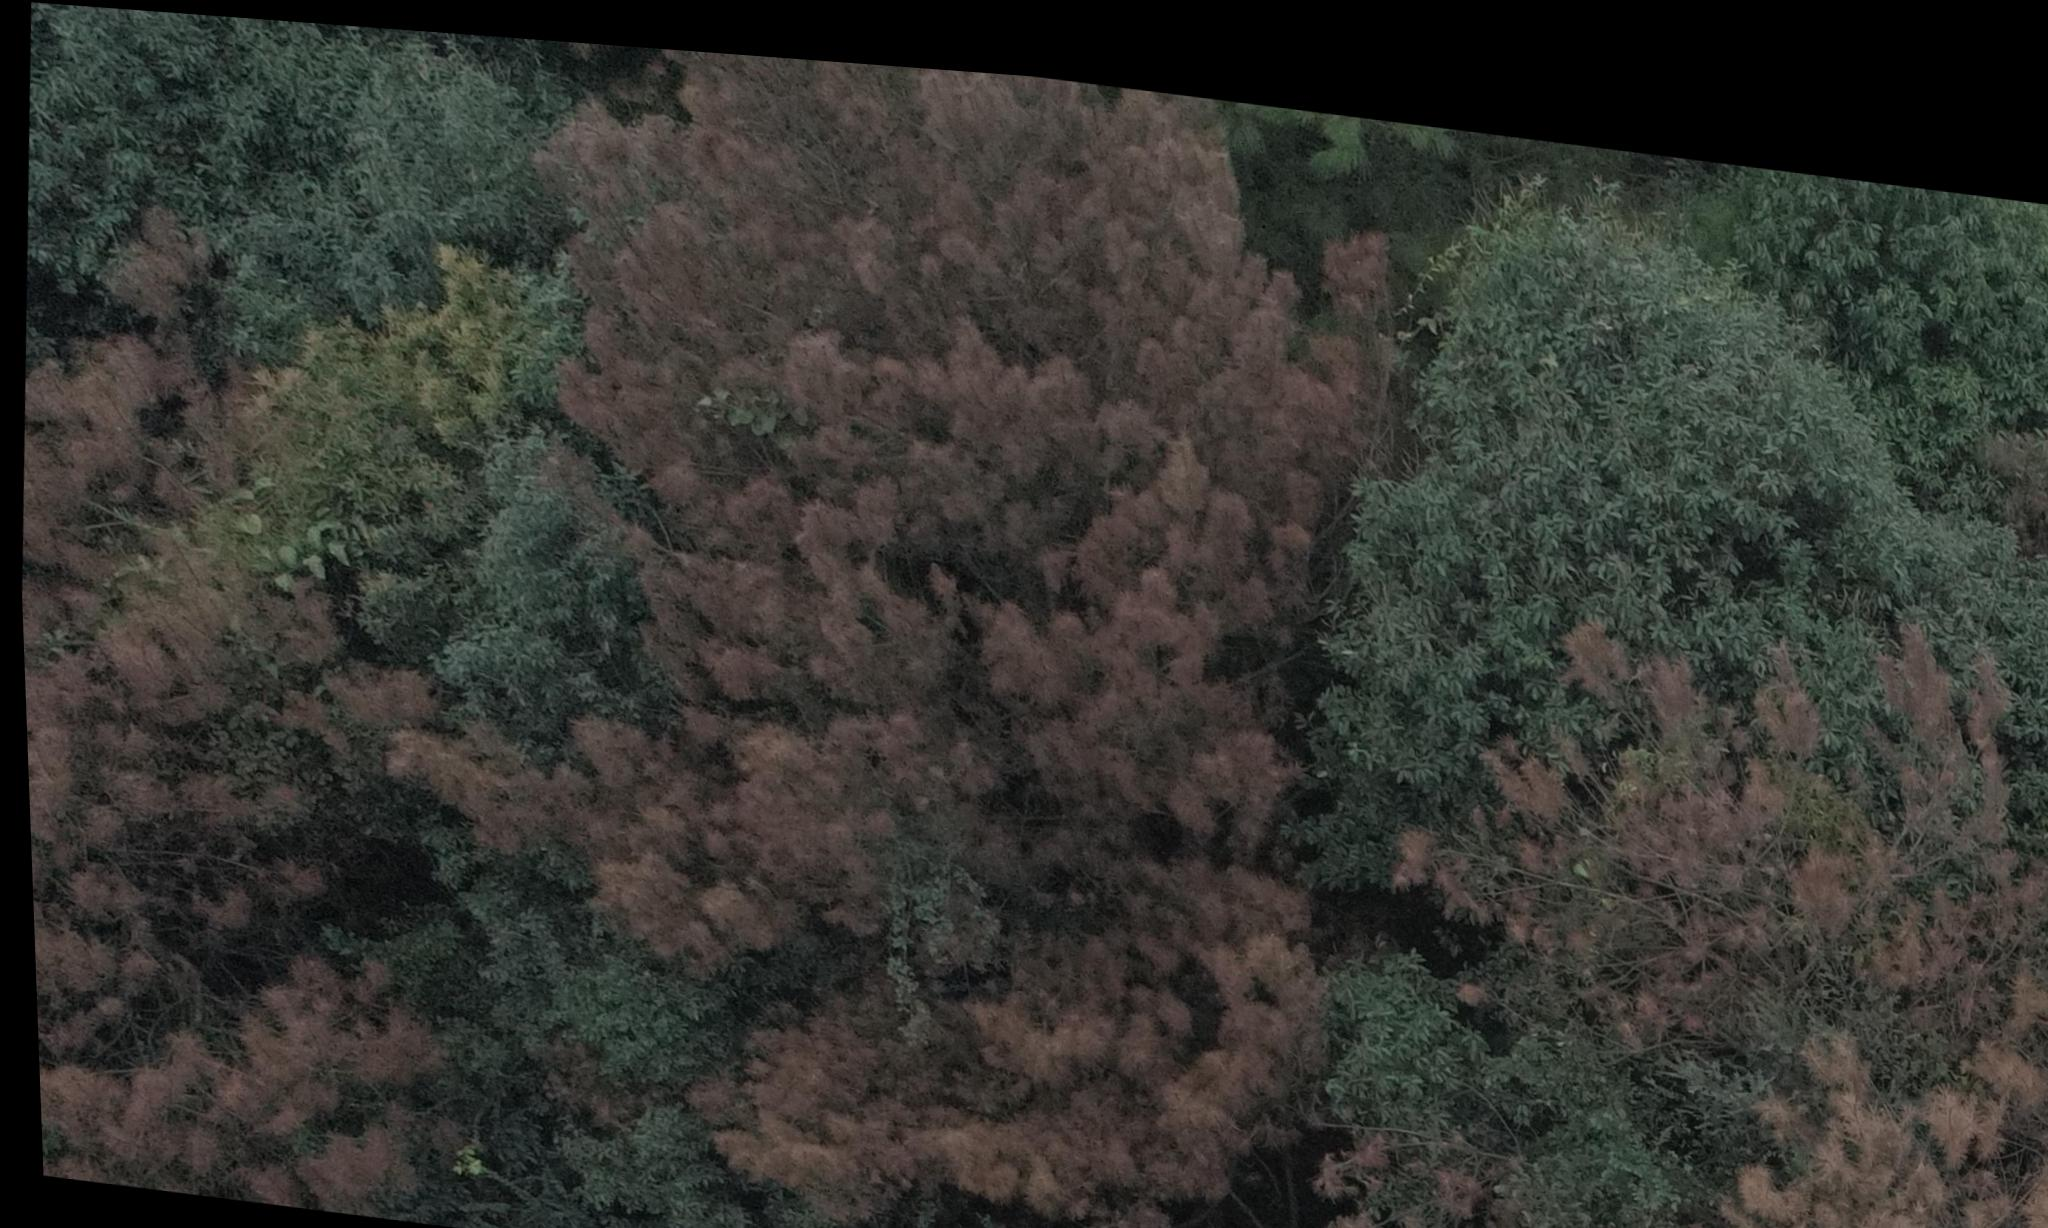heavy: (482, 28, 1373, 1228), (6, 200, 472, 1208), (1415, 567, 2048, 1228)
